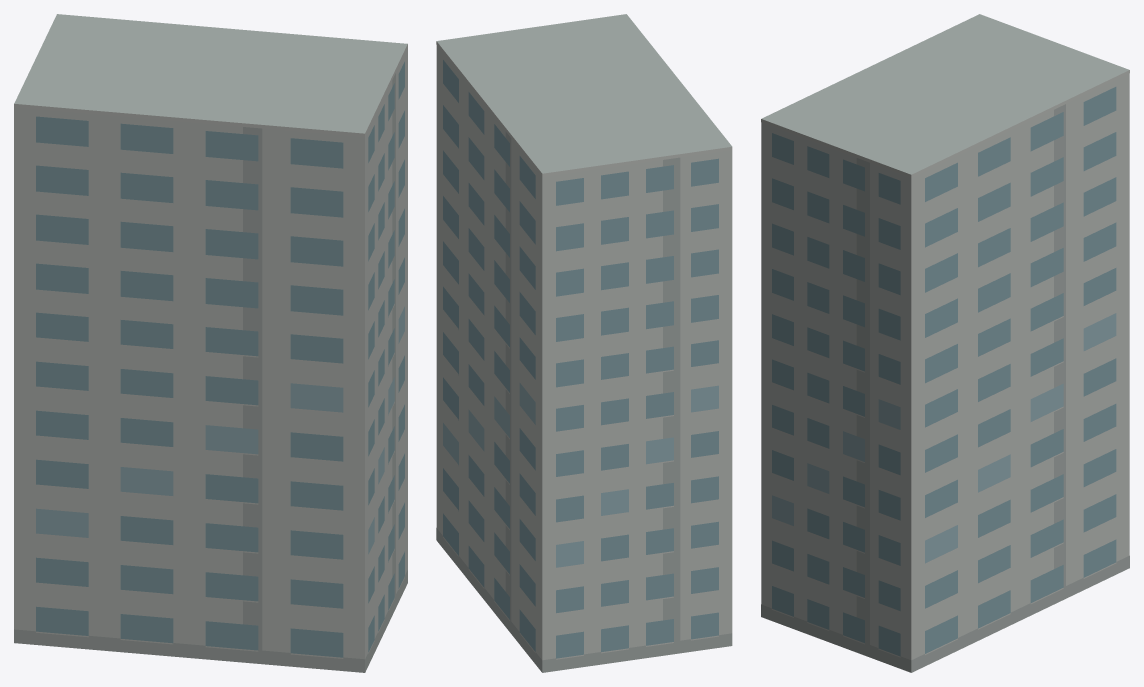
File: residential-77f6d0f1-243e-44b5-9704-f44e144d288f.glb
3 renders of one model, left to right at view 1: azimuth 30°, elevation 25°; view 2: azimuth 150°, elevation 25°; view 3: azimuth 270°, elevation 25°, orthographic. The views are drawn at different scales.
Parts seen in each view (by area): view 1: residential-77f6d0f1-243e-44b5-9704-f44e144d288f.tmp; view 2: residential-77f6d0f1-243e-44b5-9704-f44e144d288f.tmp; view 3: residential-77f6d0f1-243e-44b5-9704-f44e144d288f.tmp.
Boxes of the visible parts, x1,y1,x2,y2 form: residential-77f6d0f1-243e-44b5-9704-f44e144d288f.tmp: (14, 14, 407, 672); residential-77f6d0f1-243e-44b5-9704-f44e144d288f.tmp: (436, 14, 732, 672); residential-77f6d0f1-243e-44b5-9704-f44e144d288f.tmp: (761, 14, 1129, 672).
Bounding box in the file's own units: 24.93 × 36 × 24.15.
